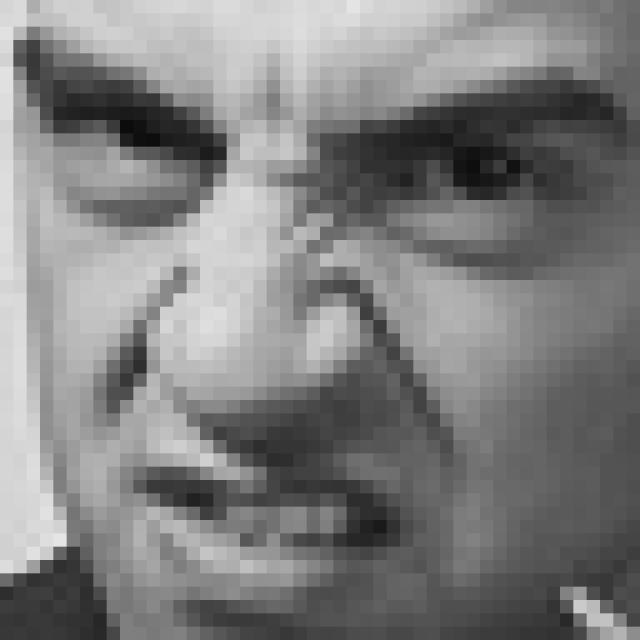angry: (15, 42, 620, 601)
